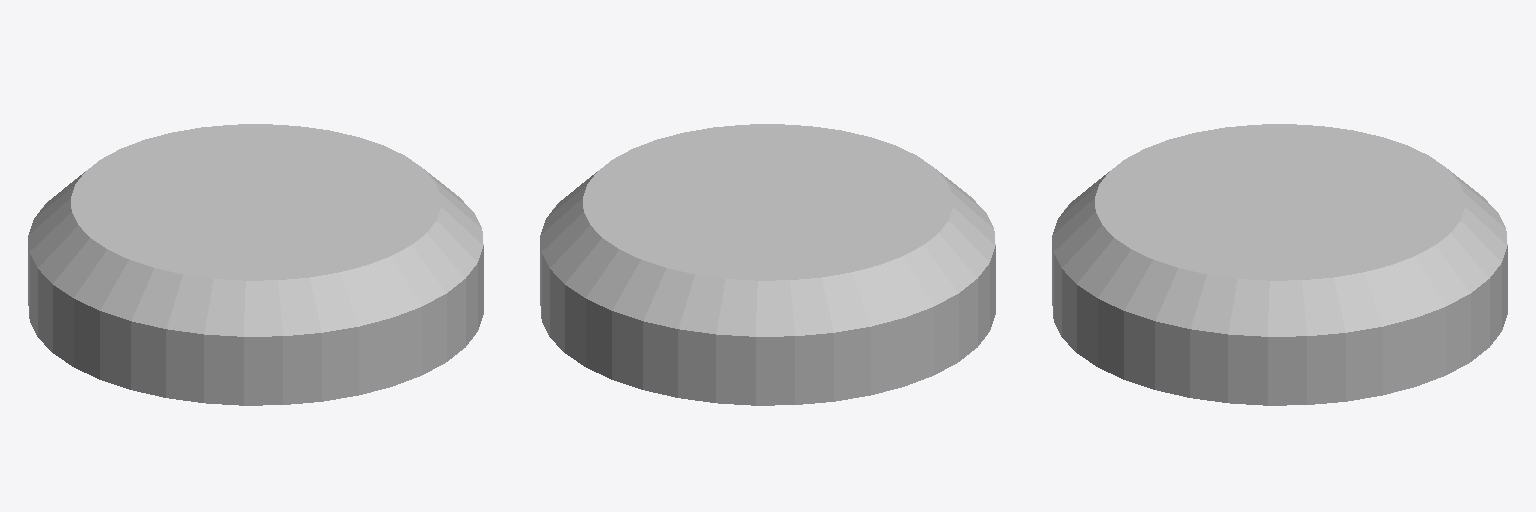
The model's file is original-117.obj.
The picture shows the model from 3 angles: view 1: azimuth 30°, elevation 25°; view 2: azimuth 150°, elevation 25°; view 3: azimuth 270°, elevation 25°; orthographic projection.
Visible parts, largest first — view 1: #ID532; view 2: #ID532; view 3: #ID532.
Boxes of the visible parts, box(x1,y1,x2,y2) form: #ID532: box(28, 124, 483, 405); #ID532: box(540, 124, 995, 405); #ID532: box(1052, 124, 1507, 405).
Size of the model in its own units: 0.0835 by 0.0217 by 0.0836.